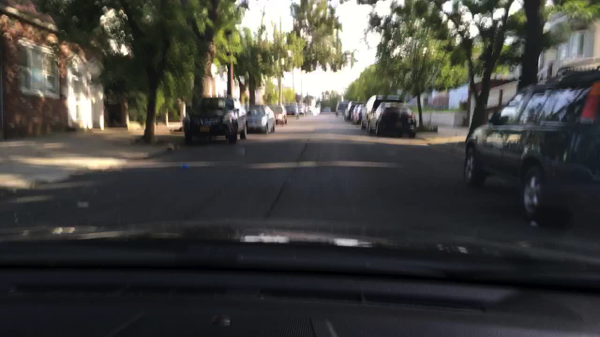car: (460, 59, 599, 216), (182, 97, 247, 143), (363, 102, 417, 140), (359, 94, 401, 132), (245, 103, 275, 135), (343, 101, 363, 121), (270, 104, 287, 124), (350, 103, 364, 125), (333, 100, 351, 115), (284, 102, 299, 115), (308, 105, 318, 116), (296, 103, 305, 115), (322, 106, 332, 114)
